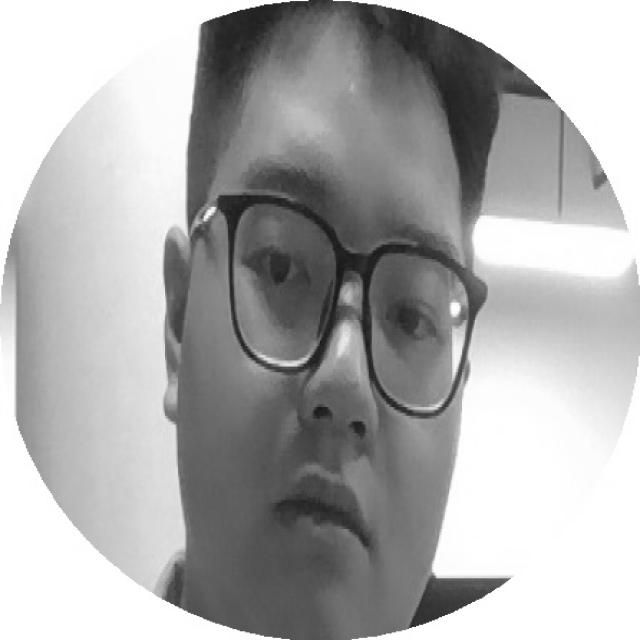real: (157, 25, 497, 637), (215, 208, 471, 368)
